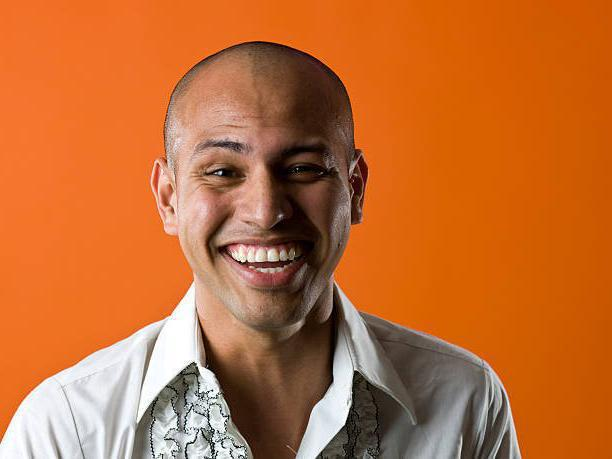Drunk: (184, 96, 343, 317)
